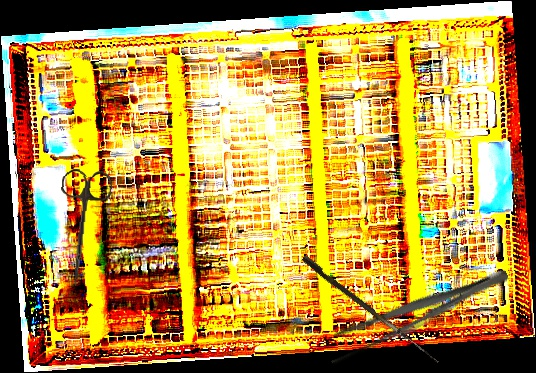Dressing Forceps: (320, 257, 514, 369)
Hook Surgical: (299, 254, 444, 364)
Iris Scissors: (53, 168, 113, 288)
